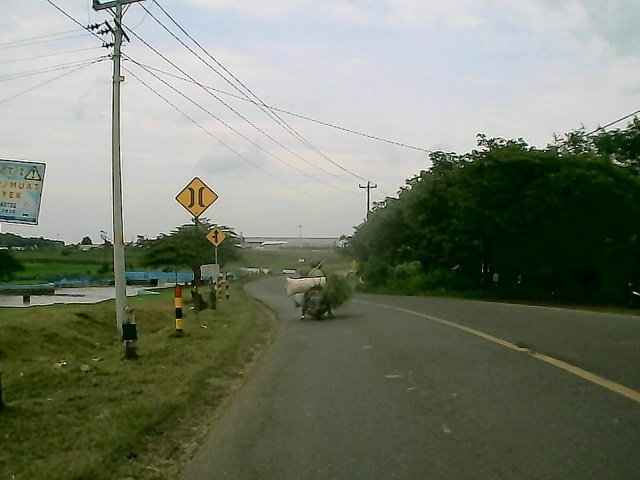Jembatan: (174, 174, 219, 218)
Simpang kiri dengan prioritas: (206, 226, 227, 247)
